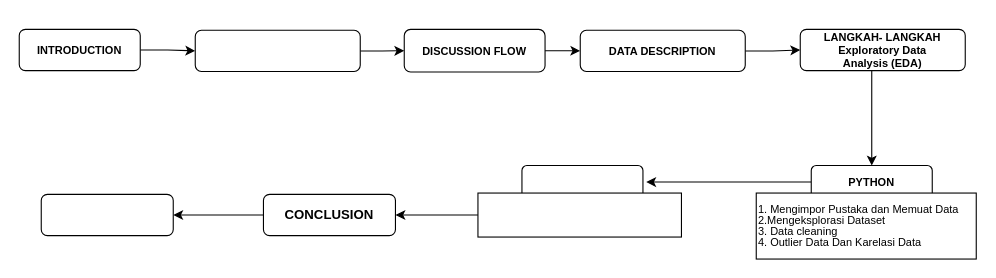
This 996x278 diagram has some shape labels left out. Here are the shapes that lost their labels. From the top down, the box of each, then its label:
(194, 29, 360, 72): PROBLEM STATEMENT AND GOALS
(521, 164, 643, 199): TABLEAU
(40, 193, 173, 236): RECOMENDASI
(477, 192, 681, 237): Build Dashboard and Gain Business Insights
